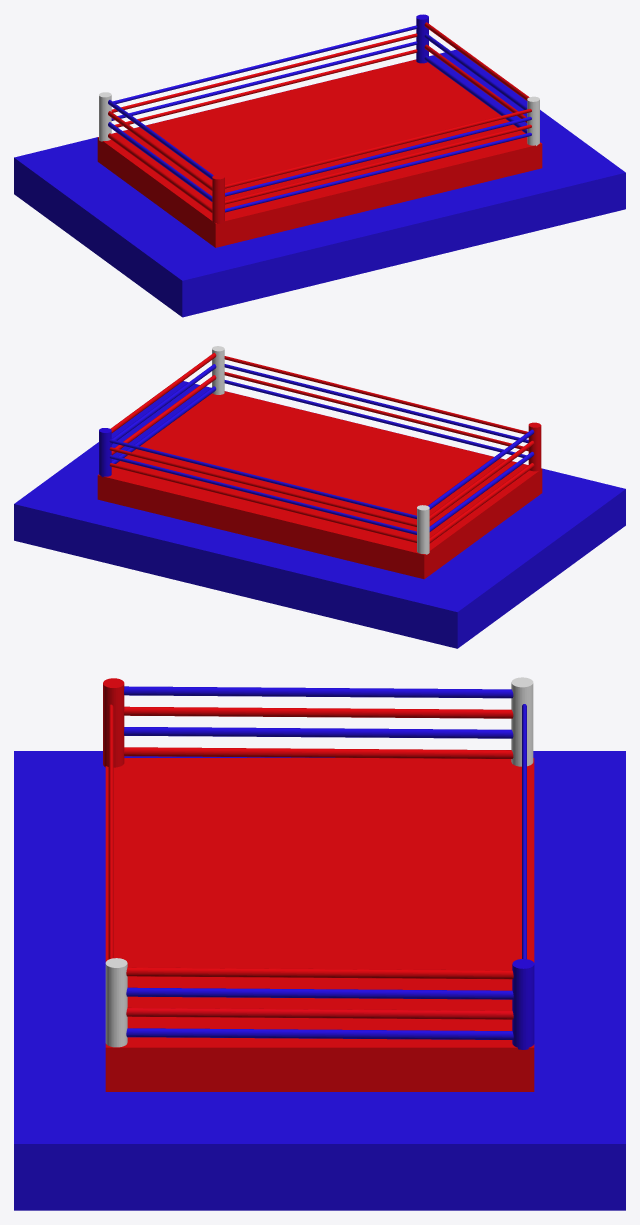
The model's file is ринг.fbx.
The picture shows the model from 3 angles, top to bottom: view 1: azimuth 30°, elevation 25°; view 2: azimuth 150°, elevation 25°; view 3: azimuth 270°, elevation 25°; orthographic projection. The views are drawn at different scales.
Visible parts, largest first — view 1: Куб.001, Куб, Цилиндр.011, Цилиндр.010, Цилиндр.009, Цилиндр.008, Цилиндр.007, Цилиндр.005, Цилиндр.006, Цилиндр.004, Цилиндр.015, Цилиндр.013 (+10 smaller); view 2: Куб.001, Куб, Цилиндр.006, Цилиндр.007, Цилиндр.008, Цилиндр.004, Цилиндр.005, Цилиндр.009, Цилиндр.010, Цилиндр.011, Цилиндр.015, Цилиндр.016 (+10 smaller); view 3: Куб.001, Куб, Цилиндр.015, Цилиндр.012, Цилиндр.013, Цилиндр.014, Цилиндр.019, Цилиндр.018, Цилиндр.017, Цилиндр.016, Цилиндр.002, Цилиндр.003 (+4 smaller).
Part boxes in pixels (x1,y1,x2,y2): Куб.001: (14,49,625,317); Куб: (97,59,542,247); Цилиндр.011: (225,132,531,212); Цилиндр.010: (225,124,531,204); Цилиндр.009: (225,117,531,196); Цилиндр.008: (225,109,531,188); Цилиндр.007: (113,25,417,103); Цилиндр.005: (111,41,417,120); Цилиндр.006: (111,33,417,112); Цилиндр.004: (115,49,417,127); Цилиндр.015: (108,100,213,179); Цилиндр.013: (108,122,212,201); Куб.001: (14,381,625,648); Куб: (97,391,542,579); Цилиндр.006: (109,447,416,527); Цилиндр.007: (109,439,416,519); Цилиндр.008: (224,356,527,434); Цилиндр.004: (109,463,416,542); Цилиндр.005: (109,455,416,534); Цилиндр.009: (224,364,528,443); Цилиндр.010: (224,372,528,451); Цилиндр.011: (224,380,526,457); Цилиндр.015: (428,429,534,509); Цилиндр.016: (110,352,216,432); Куб.001: (14,751,625,1210); Куб: (105,758,534,1091); Цилиндр.015: (124,686,513,698); Цилиндр.012: (124,747,513,758); Цилиндр.013: (124,727,513,738); Цилиндр.014: (124,706,513,718); Цилиндр.019: (126,1028,513,1039); Цилиндр.018: (126,1007,513,1019); Цилиндр.017: (126,987,513,999); Цилиндр.016: (126,967,513,979); Цилиндр.002: (512,959,534,1049); Цилиндр.003: (105,958,127,1047).
Size of the model in its own units: 760 by 172 by 500.
